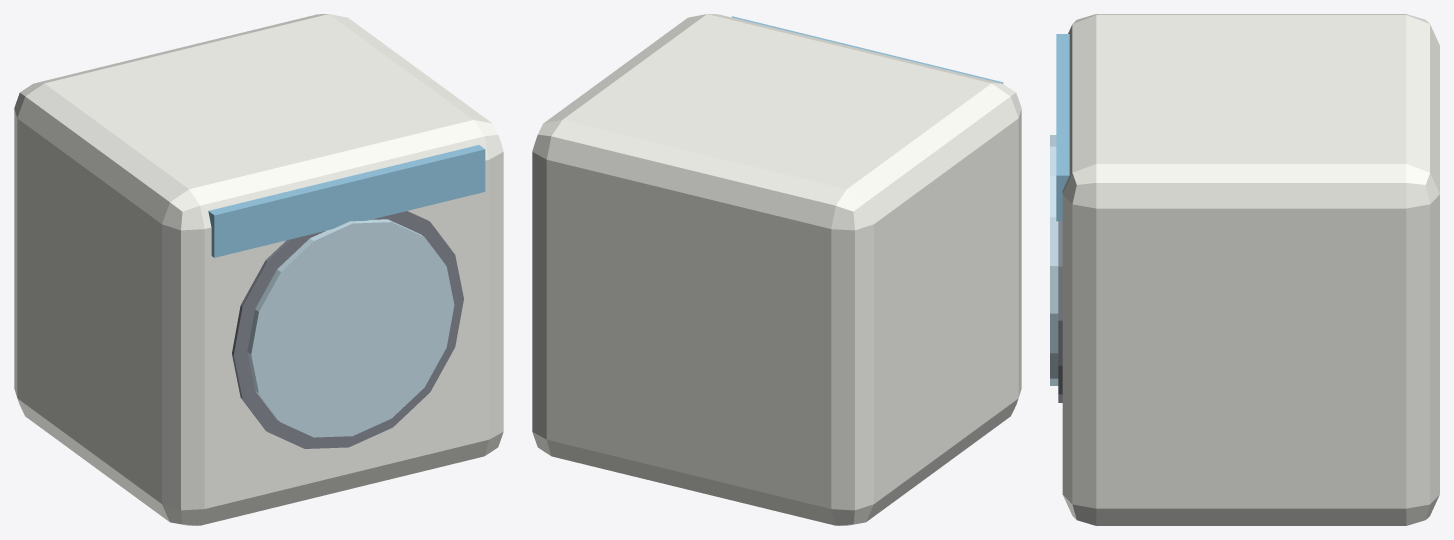
File: int_mesinCuci.fbx
3 renders of one model, left to right at view 1: azimuth 30°, elevation 25°; view 2: azimuth 150°, elevation 25°; view 3: azimuth 270°, elevation 25°, orthographic. The views are drawn at different scales.
Visible parts, largest first — view 1: int_mesinCuci; view 2: int_mesinCuci; view 3: int_mesinCuci.
Part boxes in pixels (x1,y1,x2,y2): int_mesinCuci: [14, 14, 503, 525]; int_mesinCuci: [532, 14, 1021, 525]; int_mesinCuci: [1050, 14, 1439, 525].
Bounding box in the file's own units: 100 × 95 × 93.
1 material, 1 textured.
